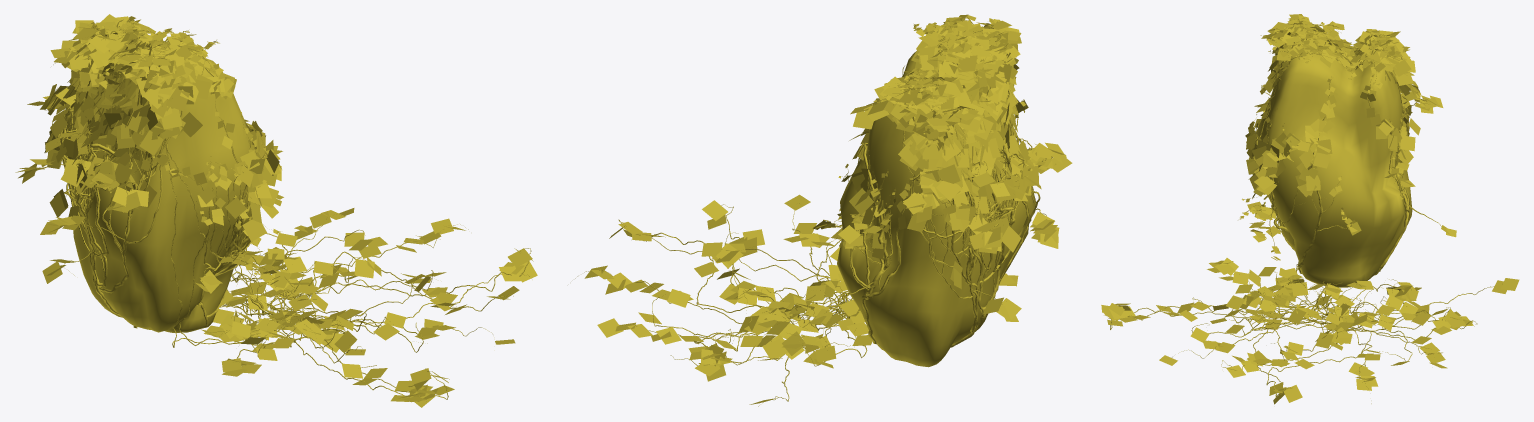
The model's file is Rock02.fbx.
3 views of the same model, side by side, from view 1: azimuth 30°, elevation 25°; view 2: azimuth 150°, elevation 25°; view 3: azimuth 270°, elevation 25° (orthographic). The views are drawn at different scales.
Visible parts, largest first — view 1: AM126_130_v1; view 2: AM126_130_v1; view 3: AM126_130_v1.
Part boxes in pixels (x1,y1,x2,y2): AM126_130_v1: (15, 14, 537, 407); AM126_130_v1: (575, 14, 1072, 406); AM126_130_v1: (1101, 14, 1519, 404).
Size of the model in its own units: 10000 by 6623 by 9877.
